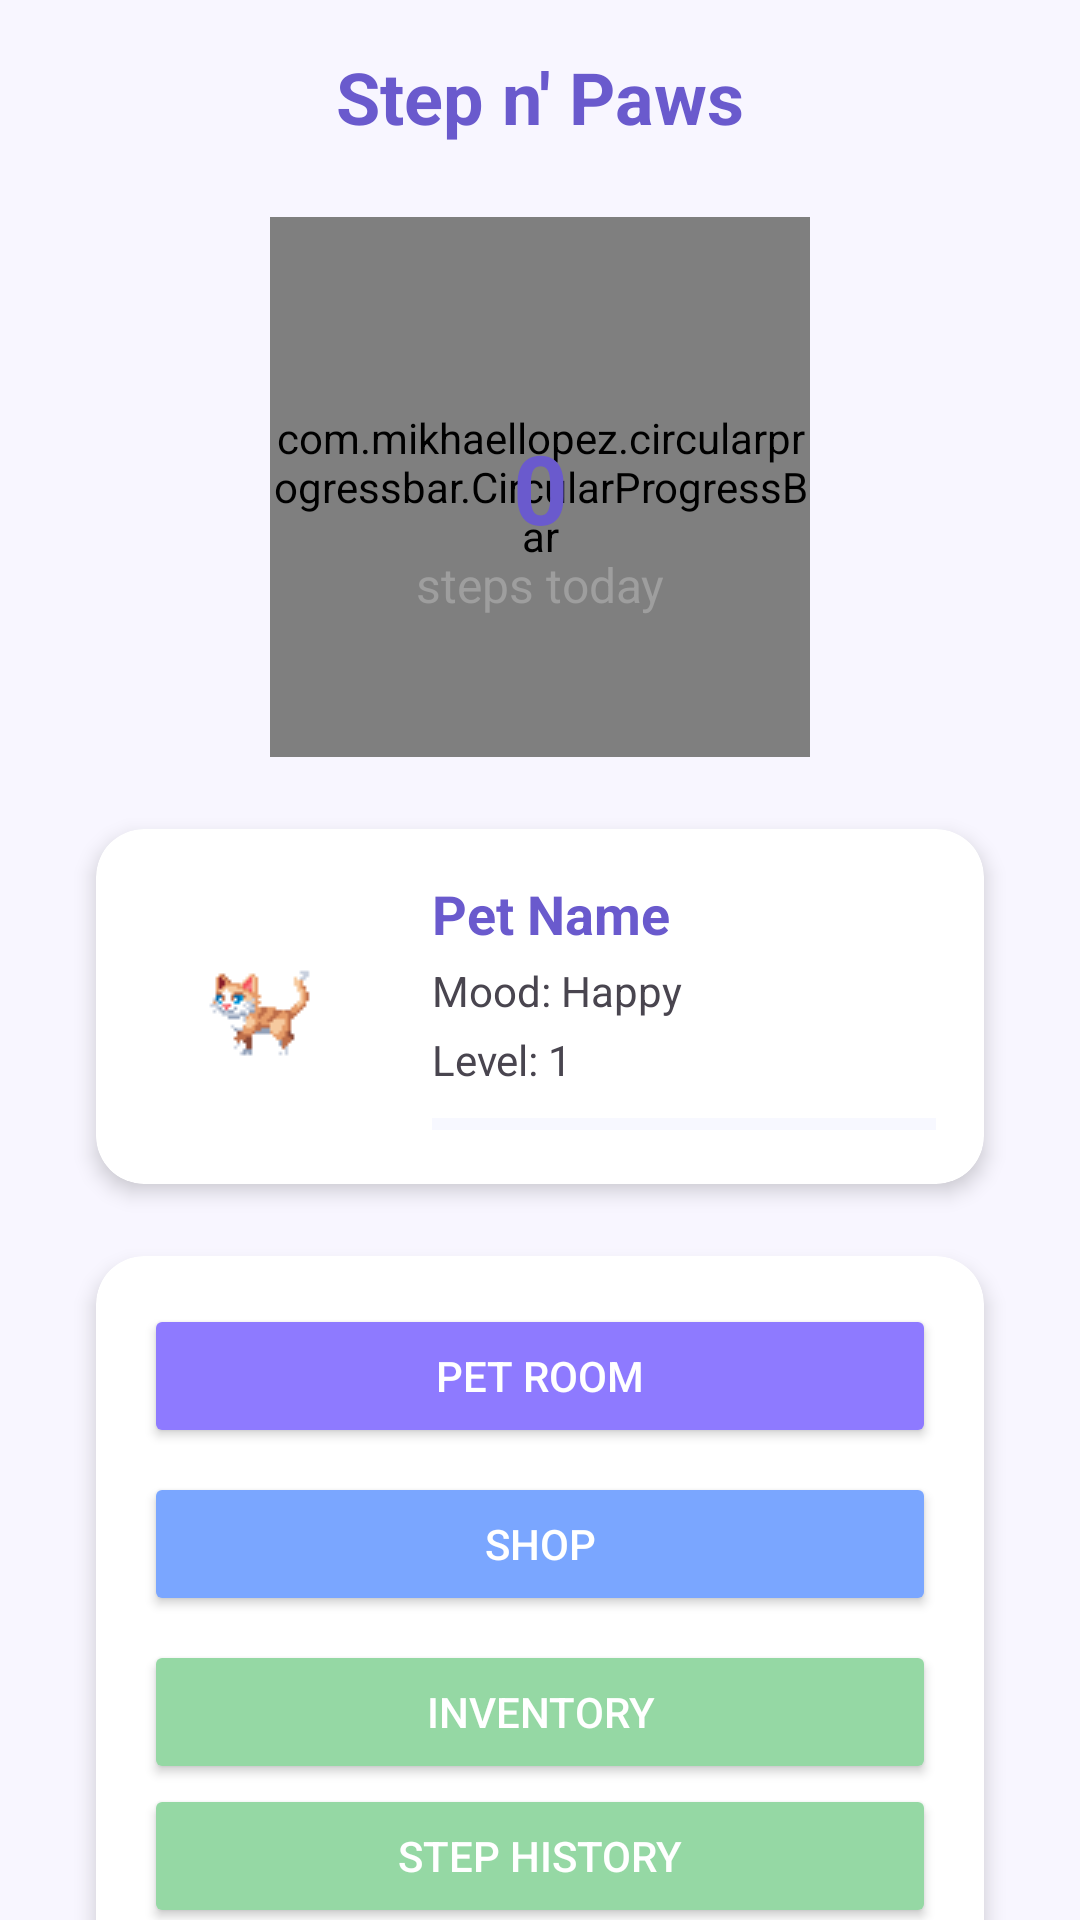

Named icons in this screenshot (1080*1920) and their bounding boxes, (x1, y1, x2, y2):
Current pet: (210, 971, 310, 1056)
